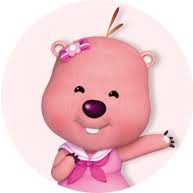Loopy: (36, 7, 177, 190)
